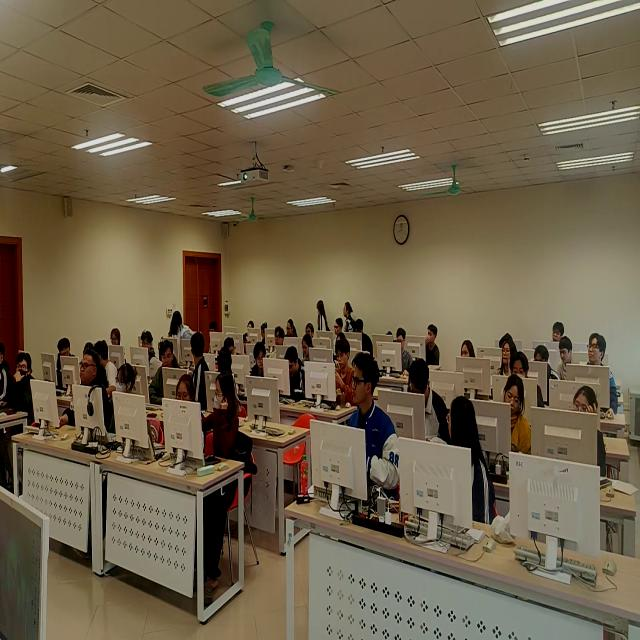raise_head: (347, 350, 403, 502), (70, 347, 110, 432), (588, 330, 619, 419), (109, 361, 142, 432), (14, 344, 38, 431), (140, 328, 159, 378), (426, 316, 443, 366), (58, 336, 73, 391), (500, 334, 518, 376), (271, 326, 286, 360), (462, 337, 477, 362), (550, 320, 566, 343), (334, 314, 345, 338), (306, 321, 316, 340)
stand: (173, 309, 191, 371), (316, 297, 330, 334), (343, 299, 355, 337)
using_computer: (572, 383, 610, 486), (407, 357, 449, 449), (210, 371, 241, 463), (504, 370, 535, 457), (509, 353, 547, 415), (151, 339, 177, 406), (286, 343, 308, 399), (537, 342, 562, 387), (173, 370, 197, 409), (557, 340, 576, 383), (397, 326, 413, 375), (355, 315, 374, 356), (252, 340, 270, 377), (208, 320, 221, 354), (304, 330, 316, 363), (286, 316, 299, 341), (113, 326, 123, 347), (226, 337, 235, 356), (261, 321, 269, 339), (248, 320, 257, 333)
using_phone: (335, 329, 359, 405)
